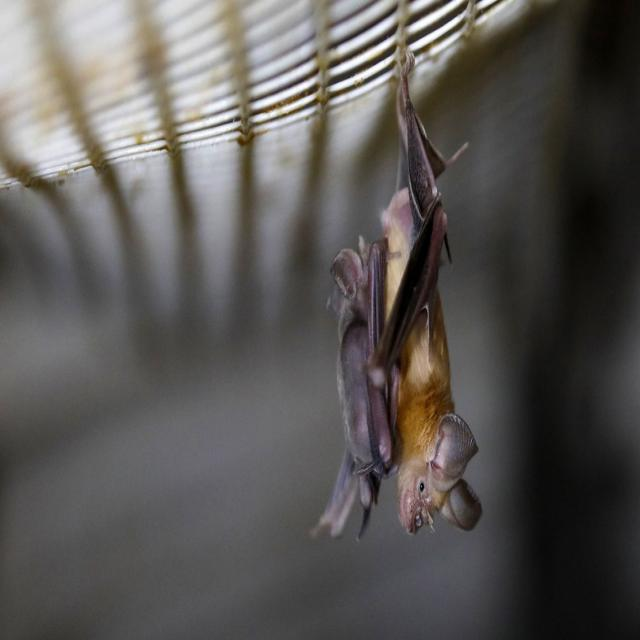Bat: (329, 54, 478, 552)
